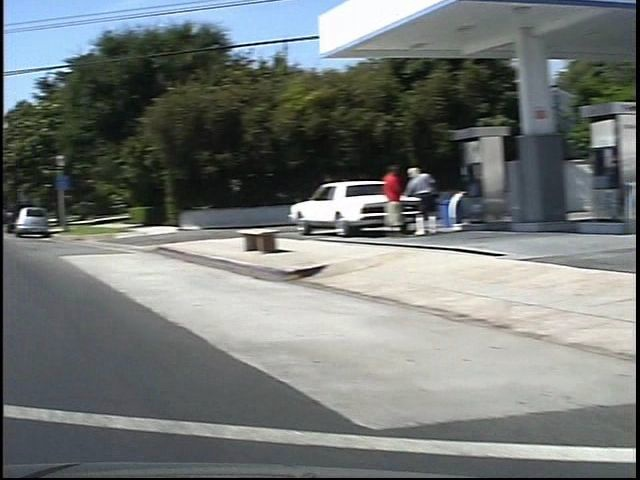person: (386, 165, 427, 243), (359, 160, 391, 242)
